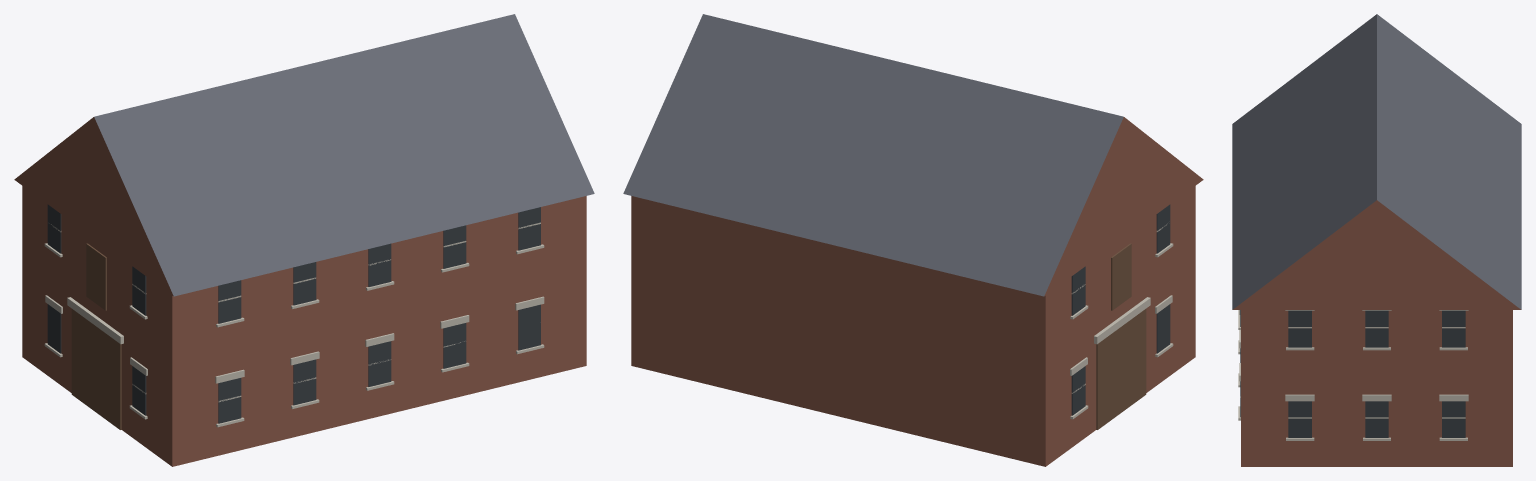
The model's file is house_2111_indiana_coach_house__draft_1904.glb.
3 views of the same model, side by side, from view 1: azimuth 30°, elevation 25°; view 2: azimuth 150°, elevation 25°; view 3: azimuth 270°, elevation 25° (orthographic). The views are drawn at different scales.
Visible parts, largest first — view 1: house_2111_indiana_coach_house__draft_1904; view 2: house_2111_indiana_coach_house__draft_1904; view 3: house_2111_indiana_coach_house__draft_1904.
Boxes of the visible parts, box(x1,y1,x2,y2) form: house_2111_indiana_coach_house__draft_1904: box(14, 14, 594, 466); house_2111_indiana_coach_house__draft_1904: box(623, 14, 1203, 466); house_2111_indiana_coach_house__draft_1904: box(1232, 14, 1521, 466).
Size of the model in its own units: 14.99 by 10.08 by 9.85.
